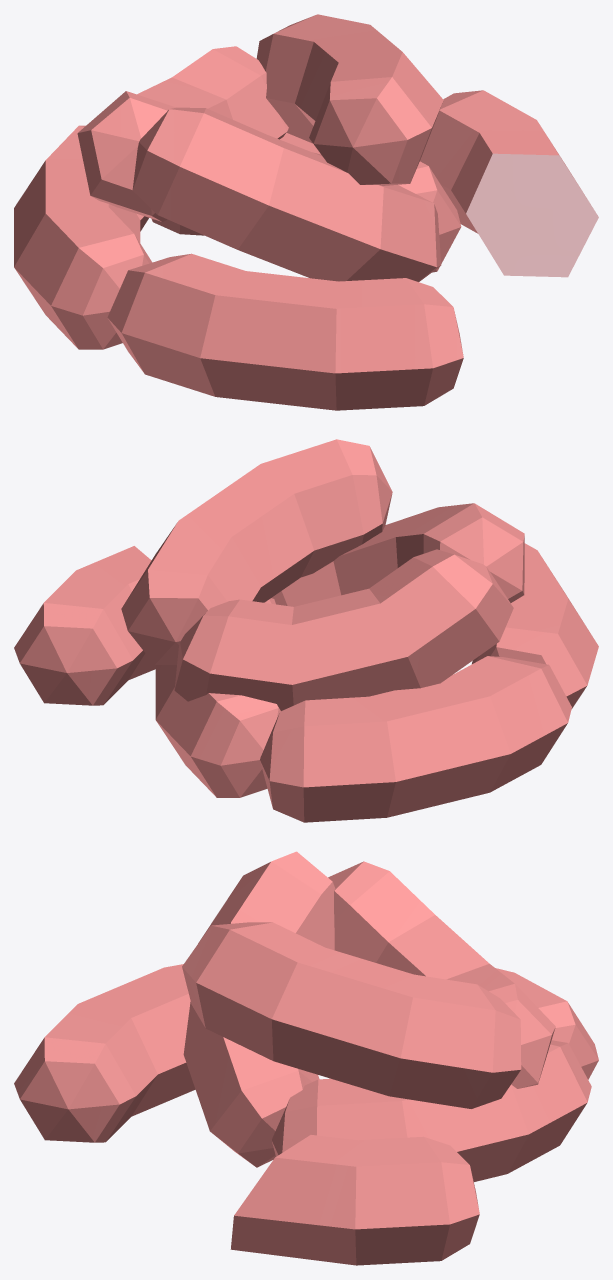
Rendered from sausages_001.obj.
3 renders of one model, top to bottom at view 1: azimuth 30°, elevation 25°; view 2: azimuth 150°, elevation 25°; view 3: azimuth 270°, elevation 25°, orthographic. The views are drawn at different scales.
Parts seen in each view (by area): view 1: sausages_001; view 2: sausages_001; view 3: sausages_001.
Boxes of the visible parts, left/top/right/bottom form: sausages_001: left=14, top=14, right=598, bottom=410; sausages_001: left=14, top=439, right=598, bottom=822; sausages_001: left=14, top=851, right=598, bottom=1265.
Size of the model in its own units: 0.2037 by 0.0894 by 0.2003.
